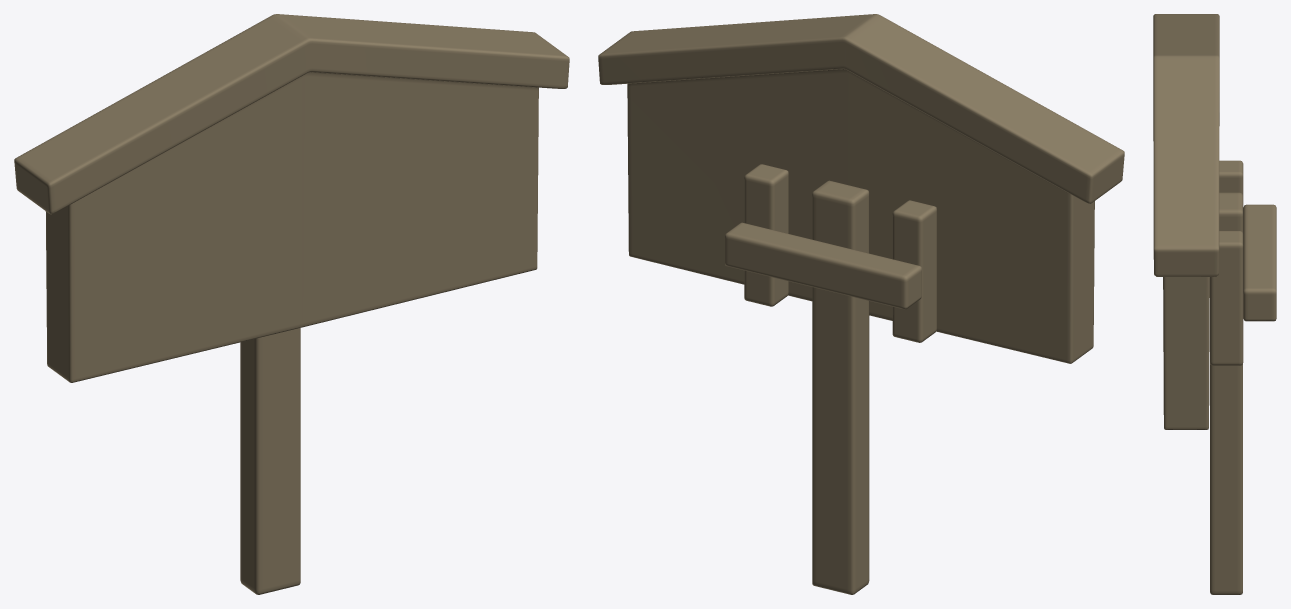
Rendered from AddressBoard_v01.glb.
3 views of the same model, side by side, from view 1: azimuth 30°, elevation 25°; view 2: azimuth 150°, elevation 25°; view 3: azimuth 270°, elevation 25° (orthographic). The views are drawn at different scales.
Parts seen in each view (by area): view 1: SM_AddressBoard; view 2: SM_AddressBoard; view 3: SM_AddressBoard.
Part boxes in pixels (box(x1,y1,x2,y2)): SM_AddressBoard: box(14, 14, 569, 594); SM_AddressBoard: box(598, 14, 1124, 594); SM_AddressBoard: box(1153, 14, 1276, 594).
Size of the model in its own units: 1.87 by 1.96 by 0.4144.
